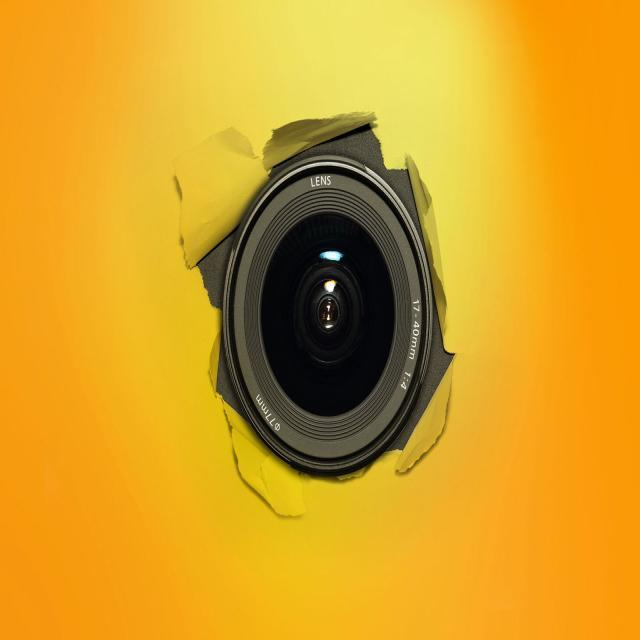hidden camera: (180, 68, 482, 556)
